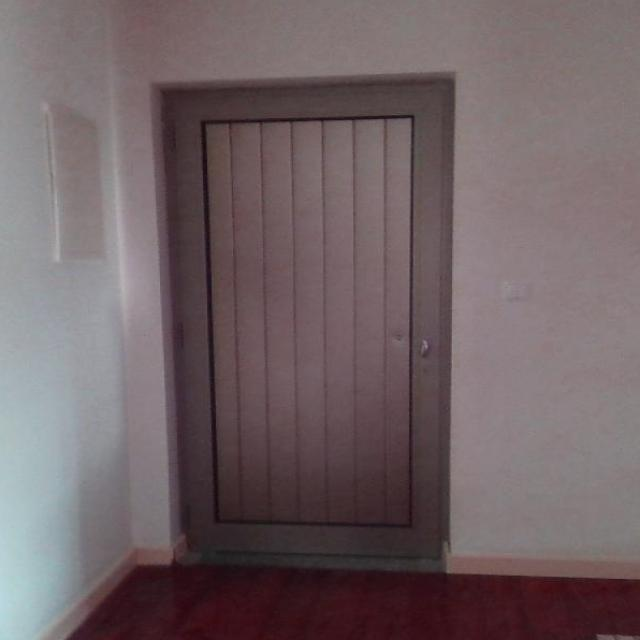door: (160, 76, 453, 565)
